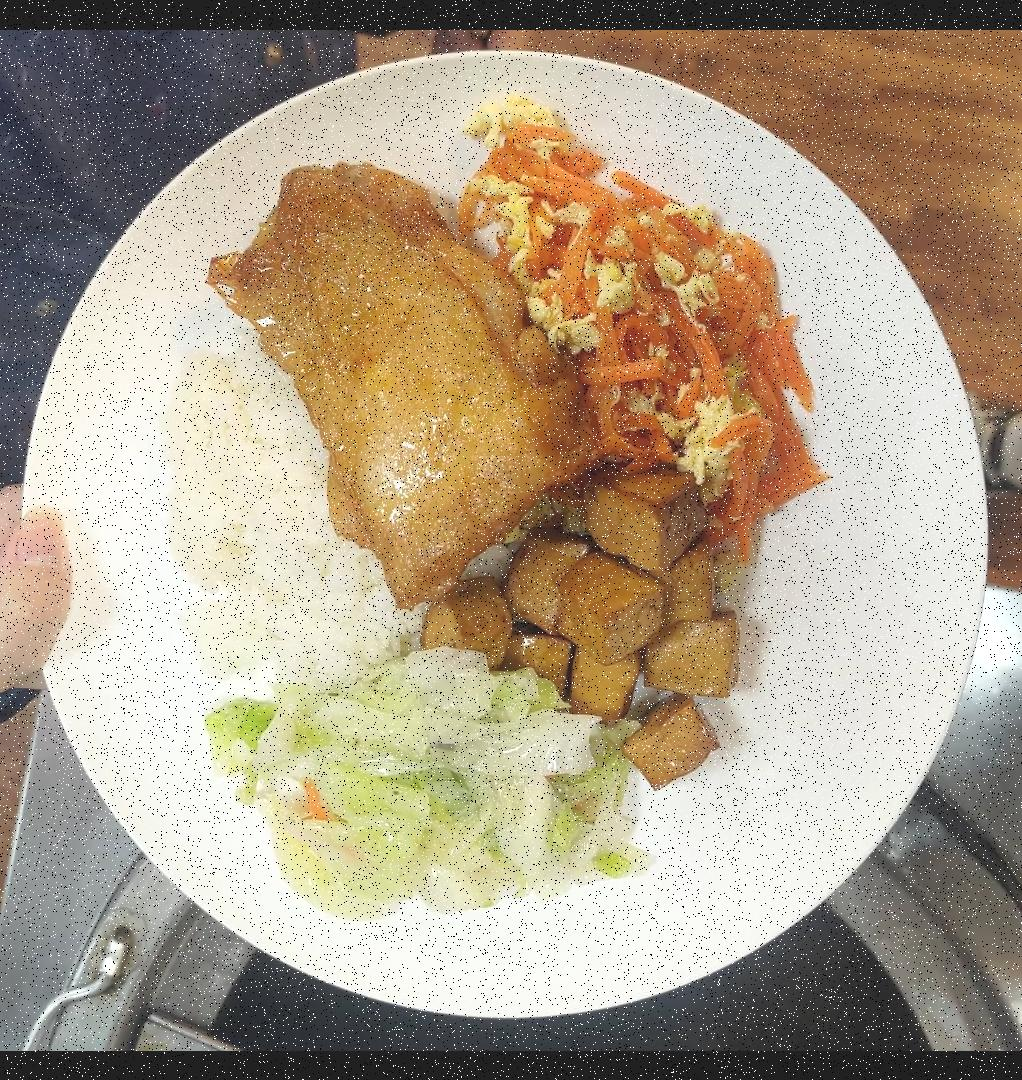grilled chicken leg steak: (200, 136, 585, 610)
plate: (6, 57, 977, 1035)
side dish: (459, 102, 831, 525), (202, 657, 628, 913), (421, 475, 751, 789)
white rice: (149, 332, 412, 701)
